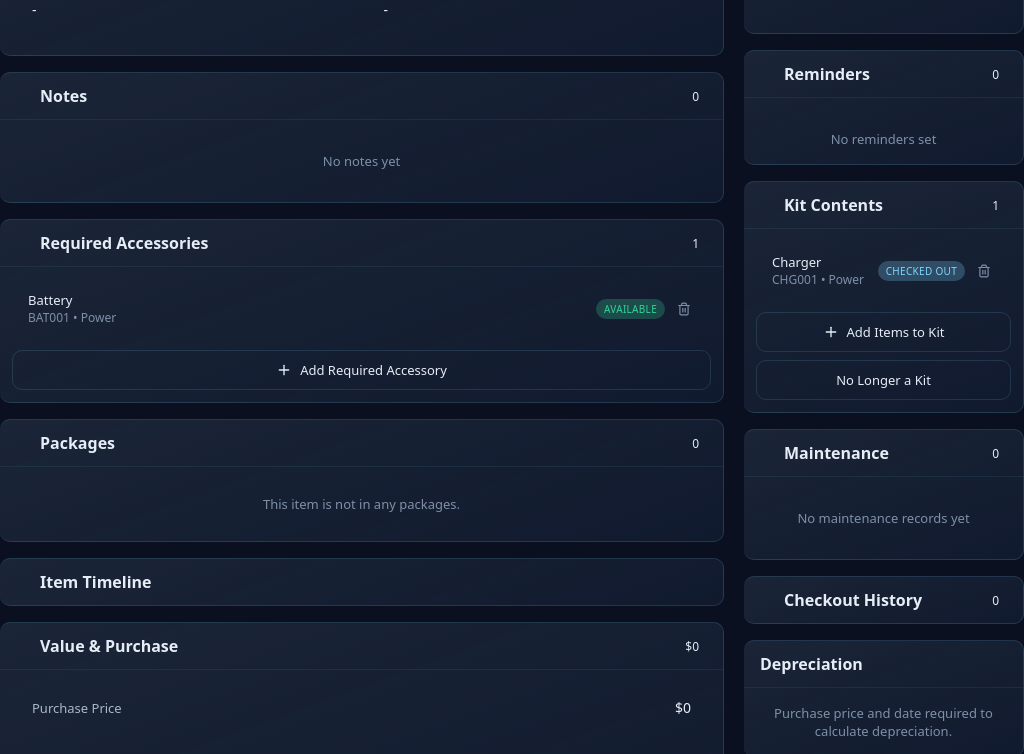
Test: add panel (accessories) › Cancel closes the panel and clears search and selection
(page scrolled)
Click the button "Add Required Accessory": click(362, 370) 12,350 -> 711,390
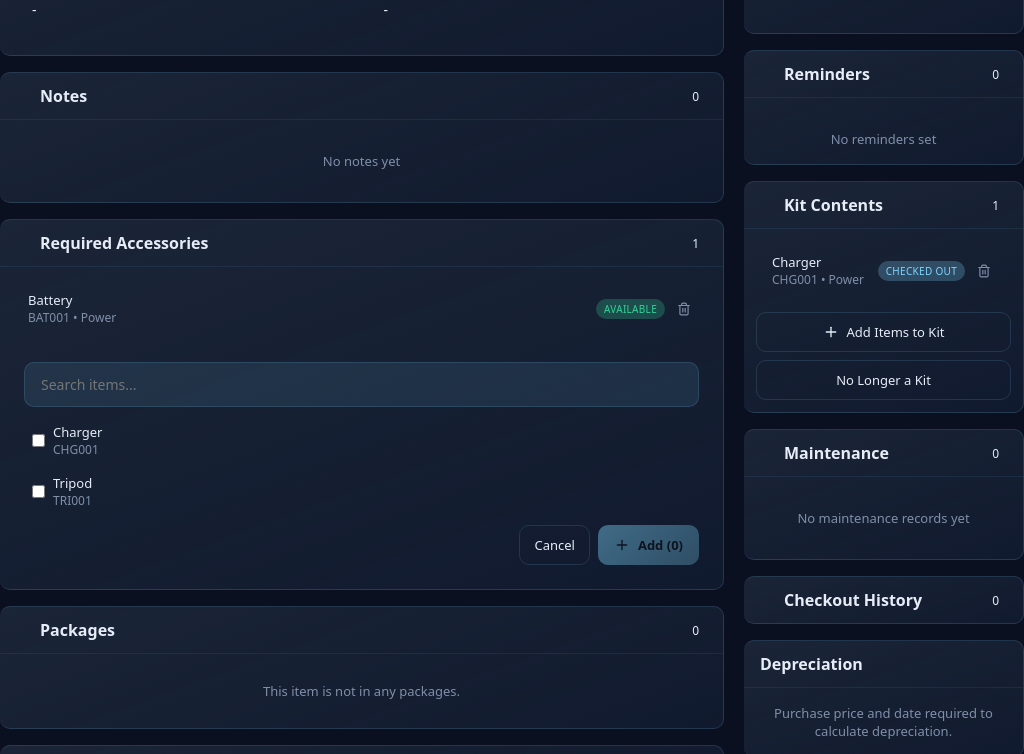
In the field with placeholder "Search items...": (362, 384) 24,362 -> 699,407, type "tri"
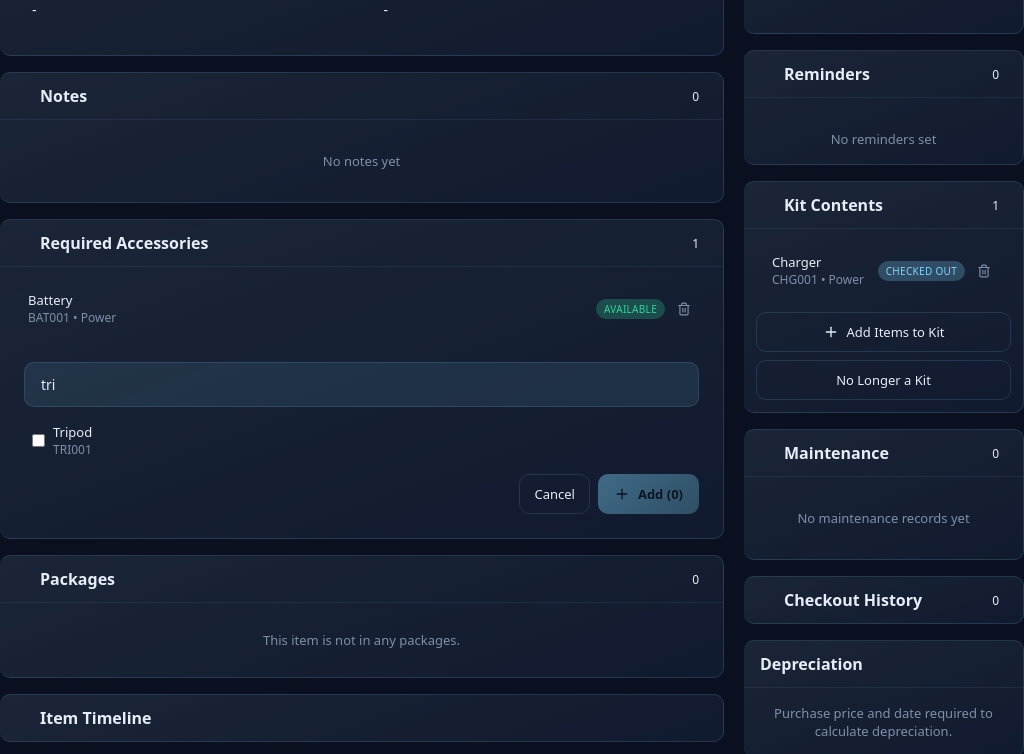
Click the checkbox: click(38, 440) 32,434 -> 45,447
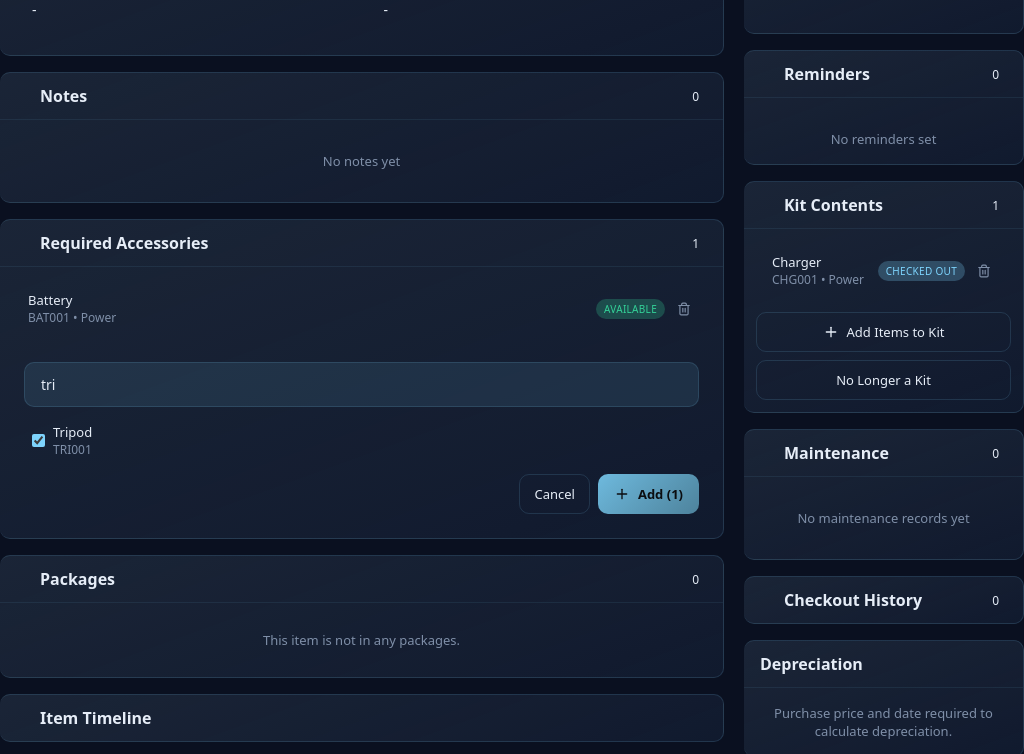
Click the button "Cancel": click(555, 494) 519,474 -> 590,514
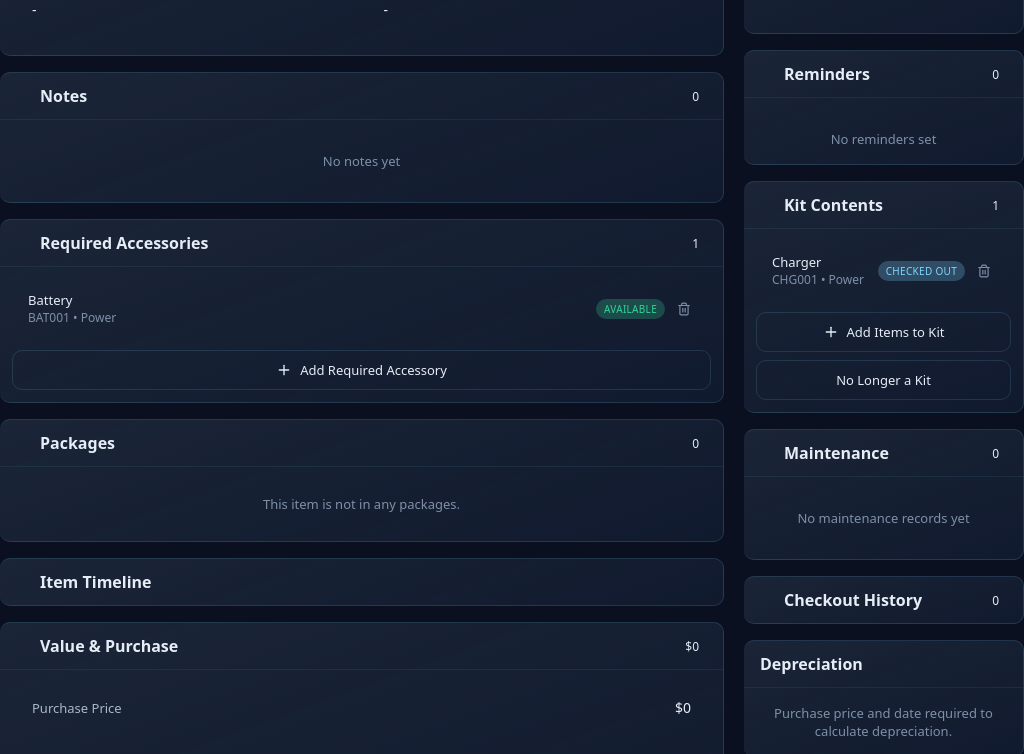
Expected: the field with placeholder "Search items..." is not shown
Reopen: selection and query are gone
Click the button "Add Required Accessory": click(362, 370) 12,350 -> 711,390
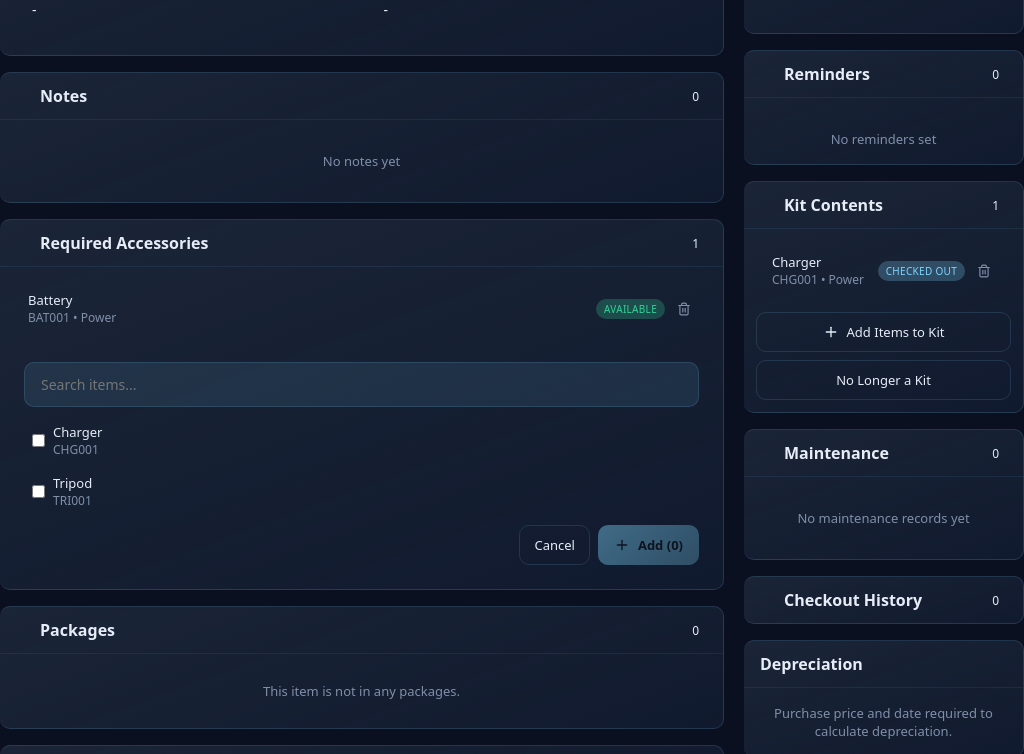
Now the field with placeholder "Search items..." is empty, box 24,362 -> 699,407
Now the button "Add (0)" is disabled, box 598,525 -> 699,565
